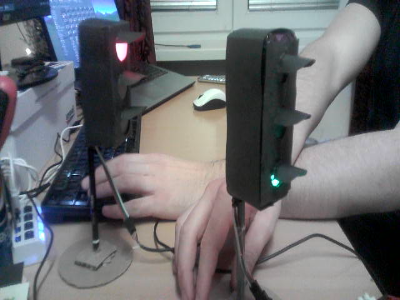trafficlight_green: (261, 39, 295, 198)
trafficlight_red: (107, 27, 134, 140)
